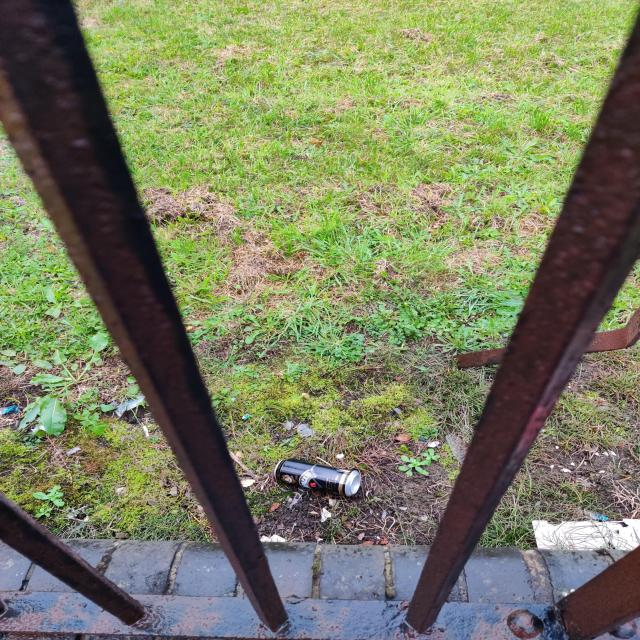litter: (272, 456, 355, 502)
